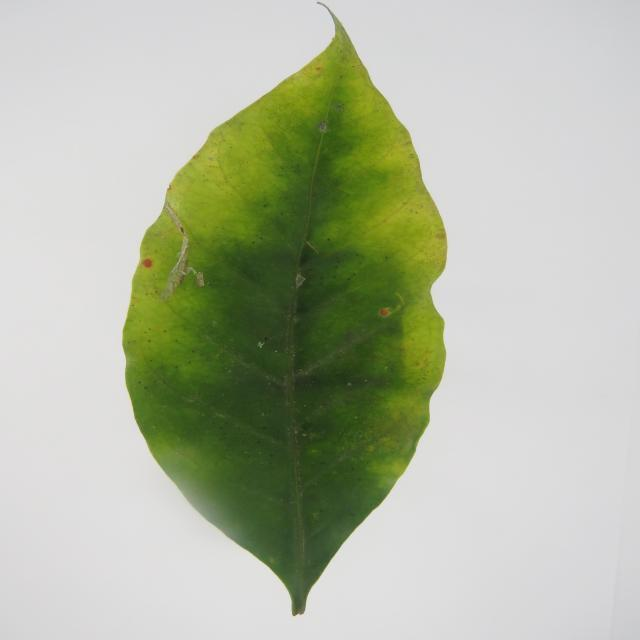DeficienciaNutricional-Potasio: (123, 16, 447, 615)
